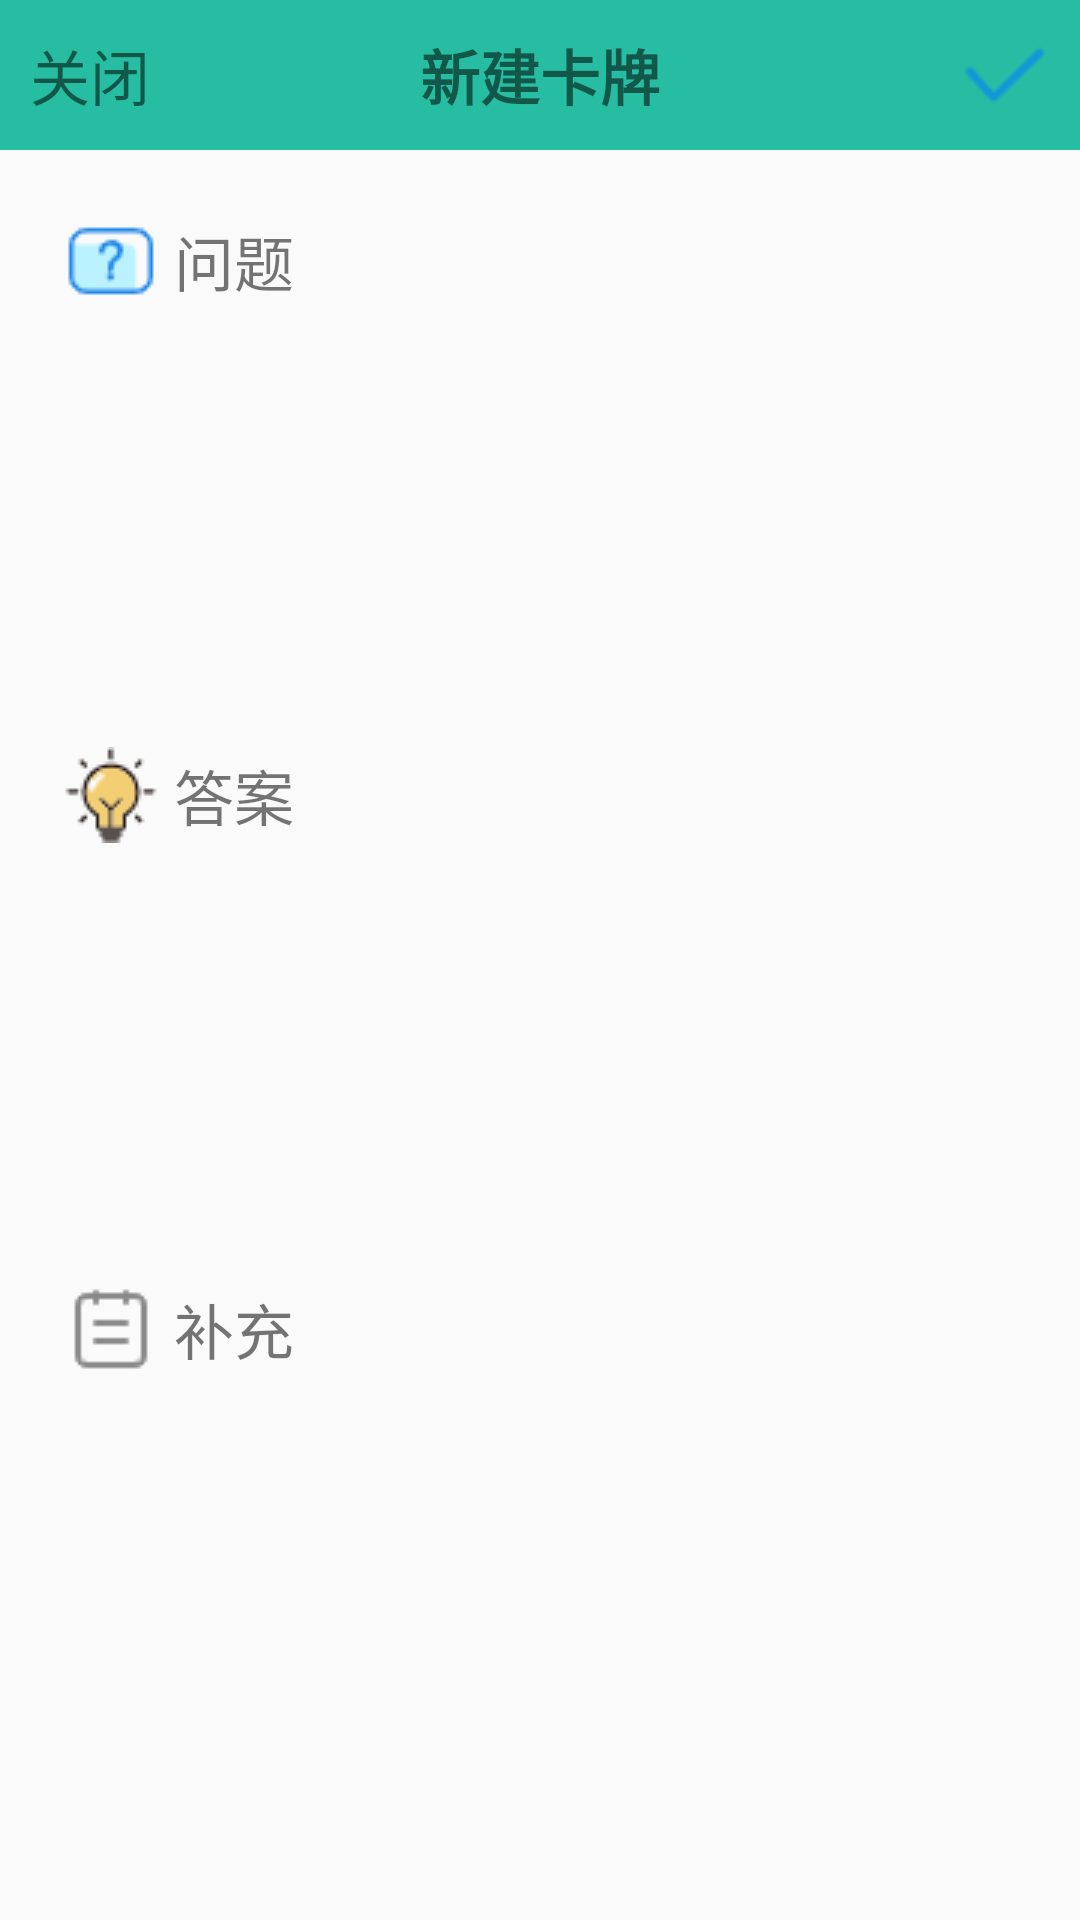

Screen size 1080px×1920px. Icon name, then its box in pixels as box(x1, y1, x2, y2):
commit: box(966, 49, 1044, 101)
